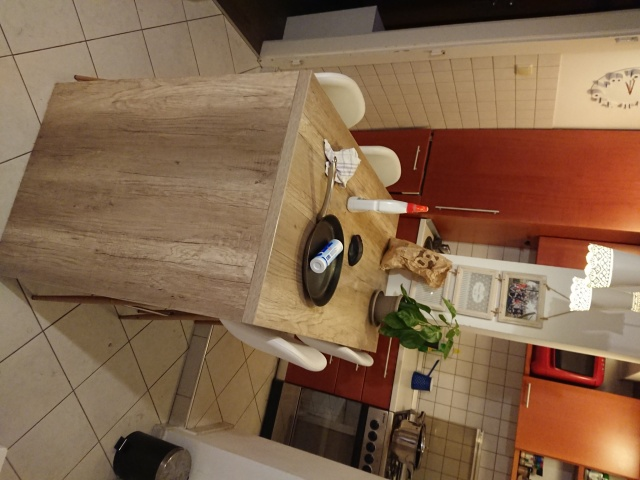Solana Pag Fine Sea Salt 250g: (307, 235, 346, 278)
